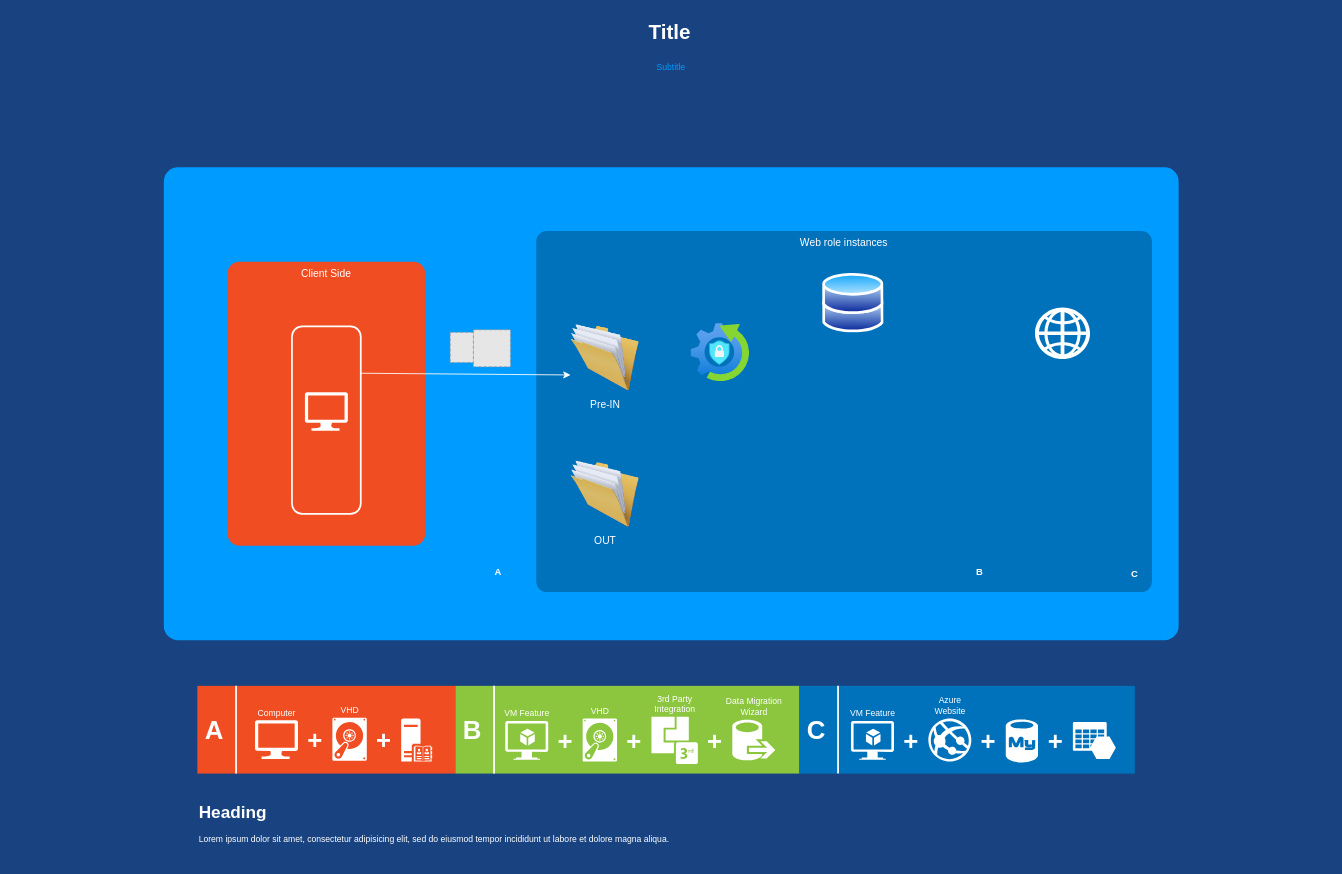
Image size: 1342x874. Some labels were removed from this diagram. Grey dashed boxes stand in for pictures. The shapes that lost their labels are listed below. From the top down, each one's box as (x1, y1, x2, y2) in pixels, then its label:
(691, 323, 749, 381): Pull,Import,Email Engines
(291, 325, 361, 514): ERP
(163, 167, 1178, 640): DSC
(401, 718, 432, 761): Server Directory
(1005, 719, 1038, 762): MySQL Database
(1072, 722, 1115, 759): Azure Storage
